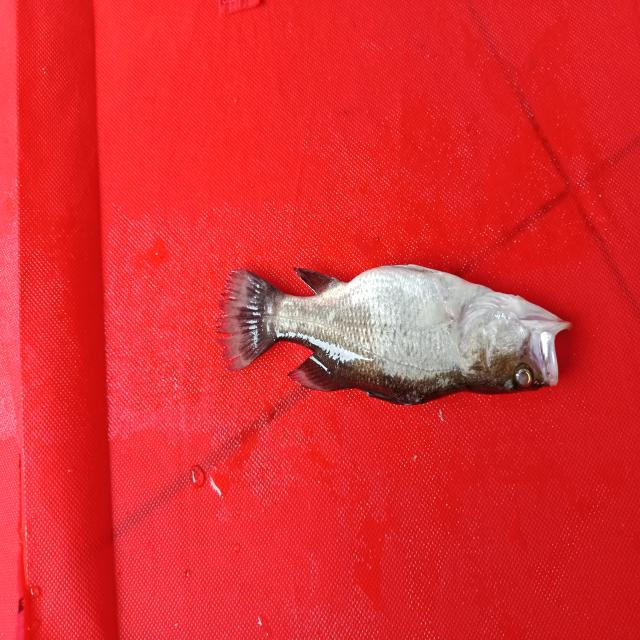ikan: (203, 238, 580, 424)
